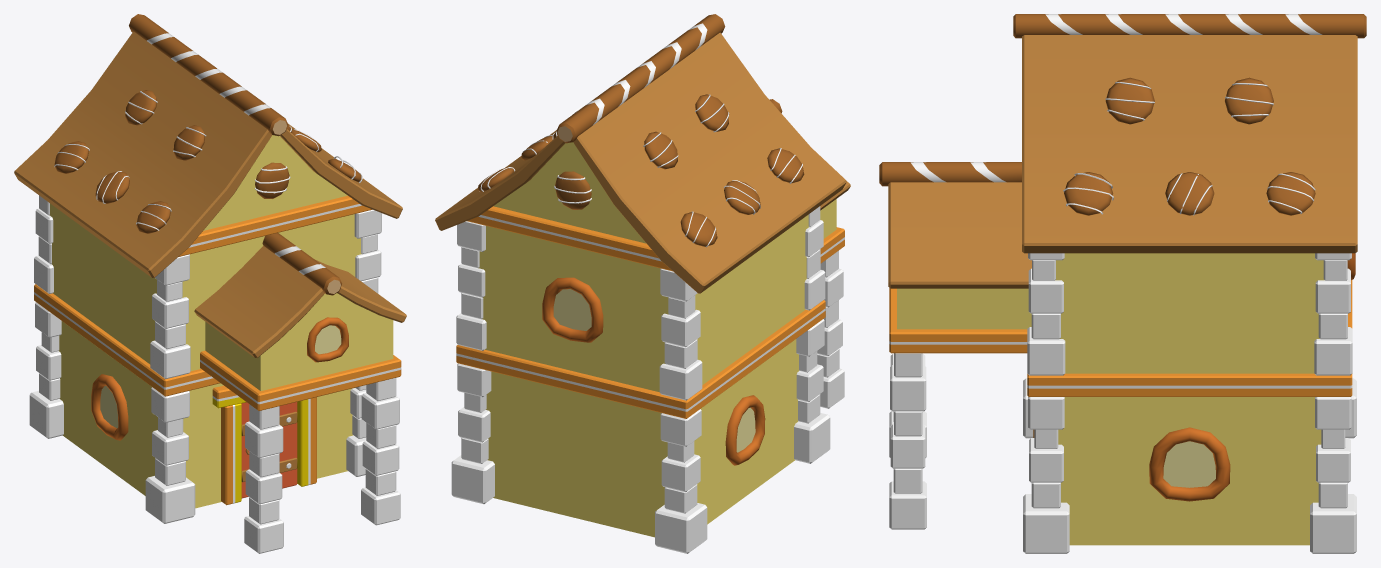
File: House_7.fbx
The picture shows the model from 3 angles, left to right: view 1: azimuth 30°, elevation 25°; view 2: azimuth 150°, elevation 25°; view 3: azimuth 270°, elevation 25°; orthographic projection. The views are drawn at different scales.
Visible parts, largest first — view 1: House_7; view 2: House_7; view 3: House_7.
Part boxes in pixels (<box>): House_7: <box>14,14,406,553</box>; House_7: <box>435,14,850,553</box>; House_7: <box>879,14,1366,553</box>.
Bounding box in the file's own units: 6.11 × 8.77 × 8.18.
